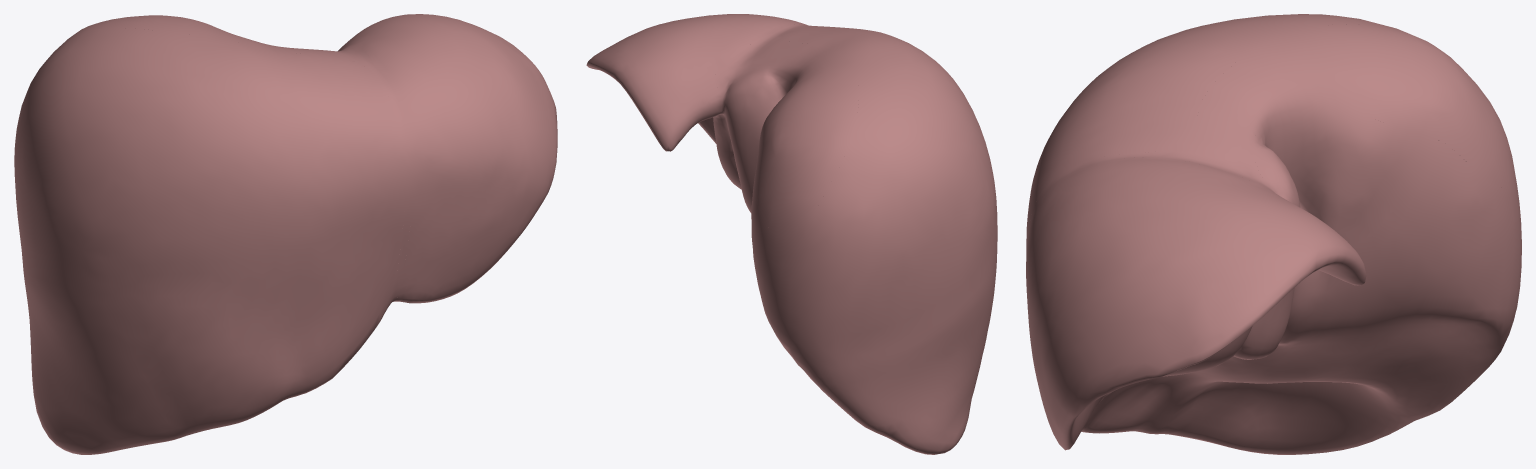
The model's file is digestive.glb.
3 renders of one model, left to right at view 1: azimuth 30°, elevation 25°; view 2: azimuth 150°, elevation 25°; view 3: azimuth 270°, elevation 25°, orthographic. The views are drawn at different scales.
Parts seen in each view (by area): view 1: ZA_LIVER; view 2: ZA_LIVER; view 3: ZA_LIVER.
Boxes of the visible parts, x1,y1,x2,y2 form: ZA_LIVER: (14, 14, 557, 454); ZA_LIVER: (586, 14, 997, 454); ZA_LIVER: (1026, 14, 1521, 454).
Size of the model in its own units: 0.4134 by 0.3332 by 0.3064.
